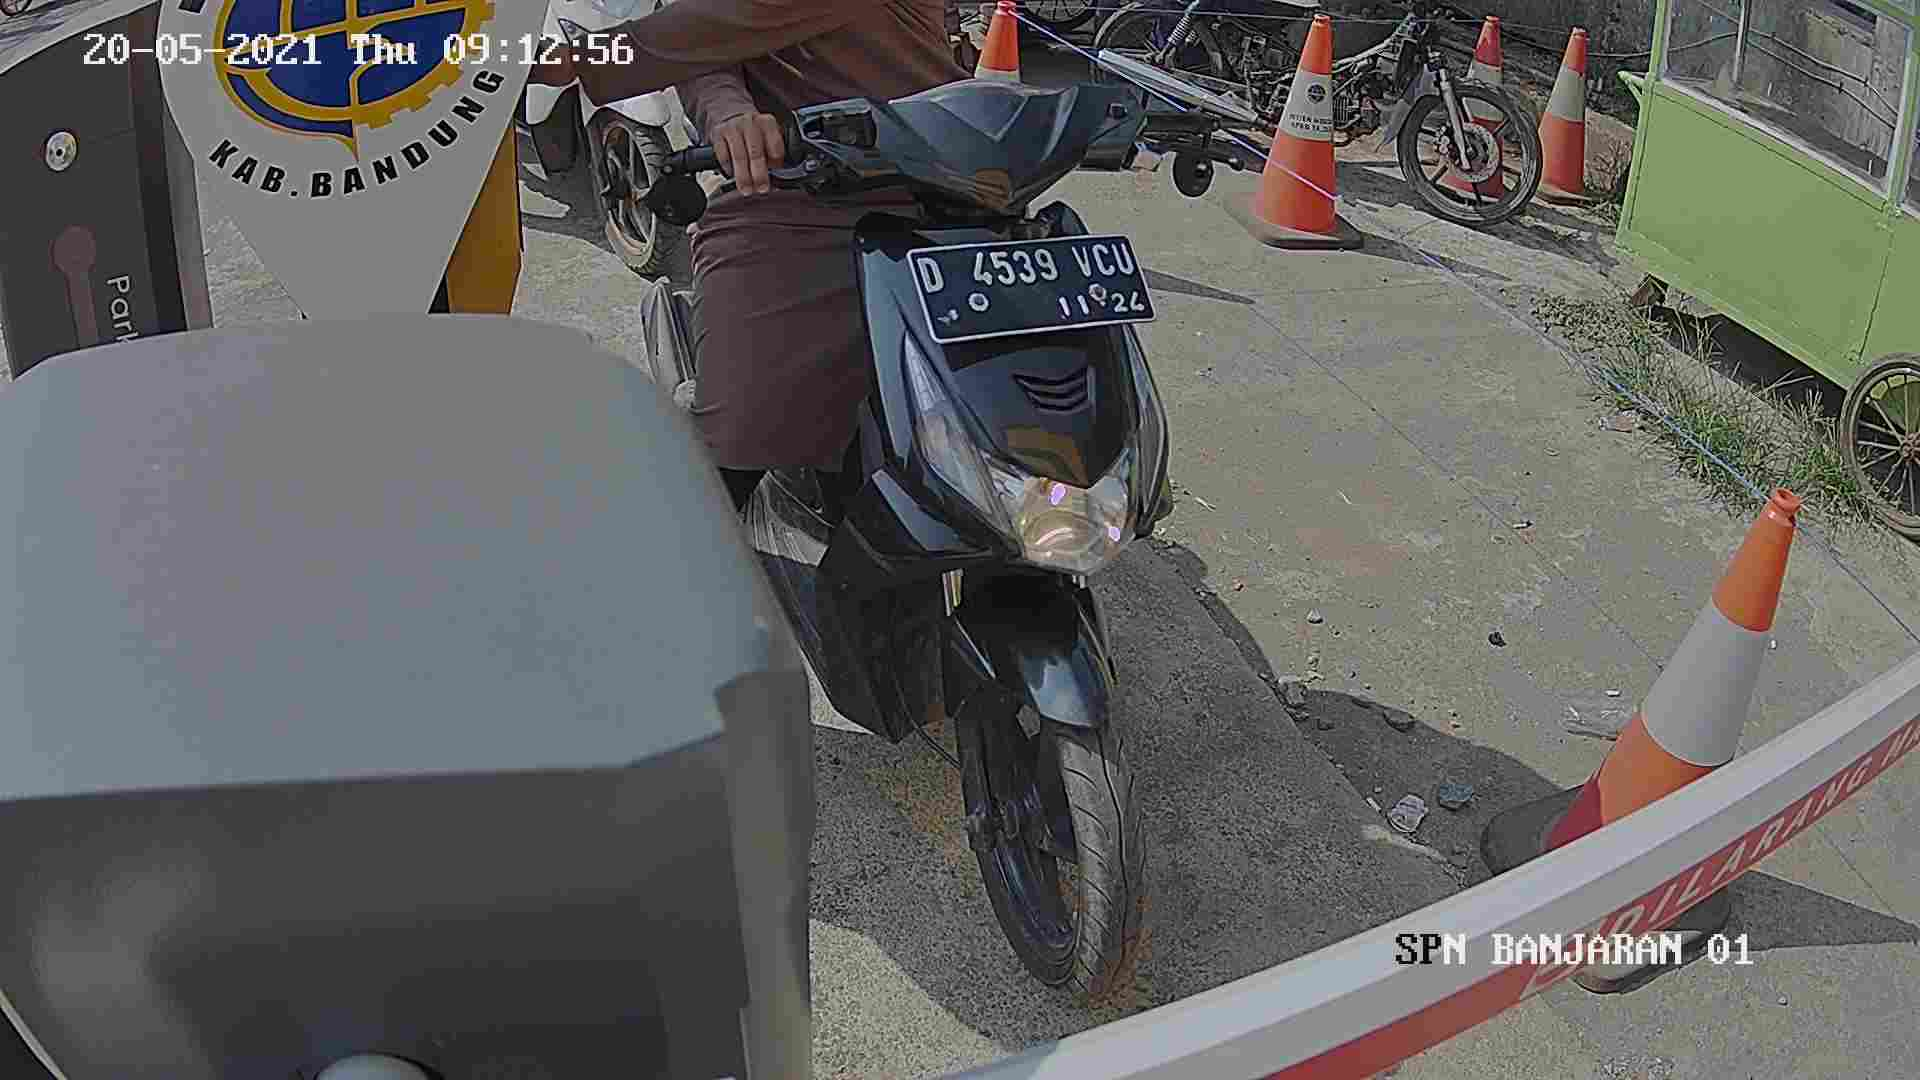motor: (676, 76, 1261, 998)
